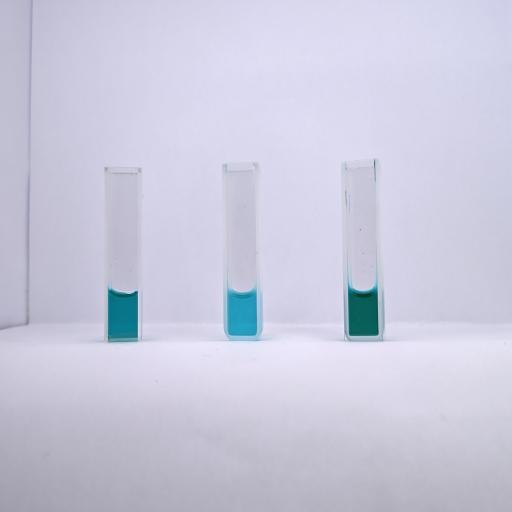cuvette: (340, 157, 384, 343), (220, 161, 263, 342), (103, 165, 143, 342)
liquid: (108, 289, 138, 338), (349, 287, 378, 335), (228, 290, 257, 336)
